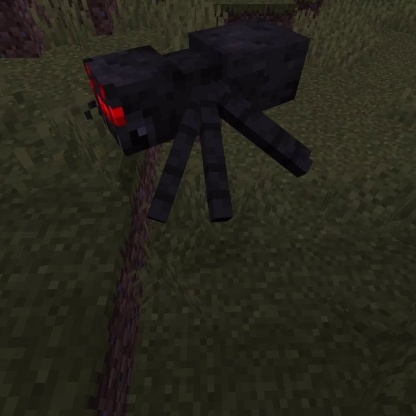spider: (79, 14, 320, 229)
